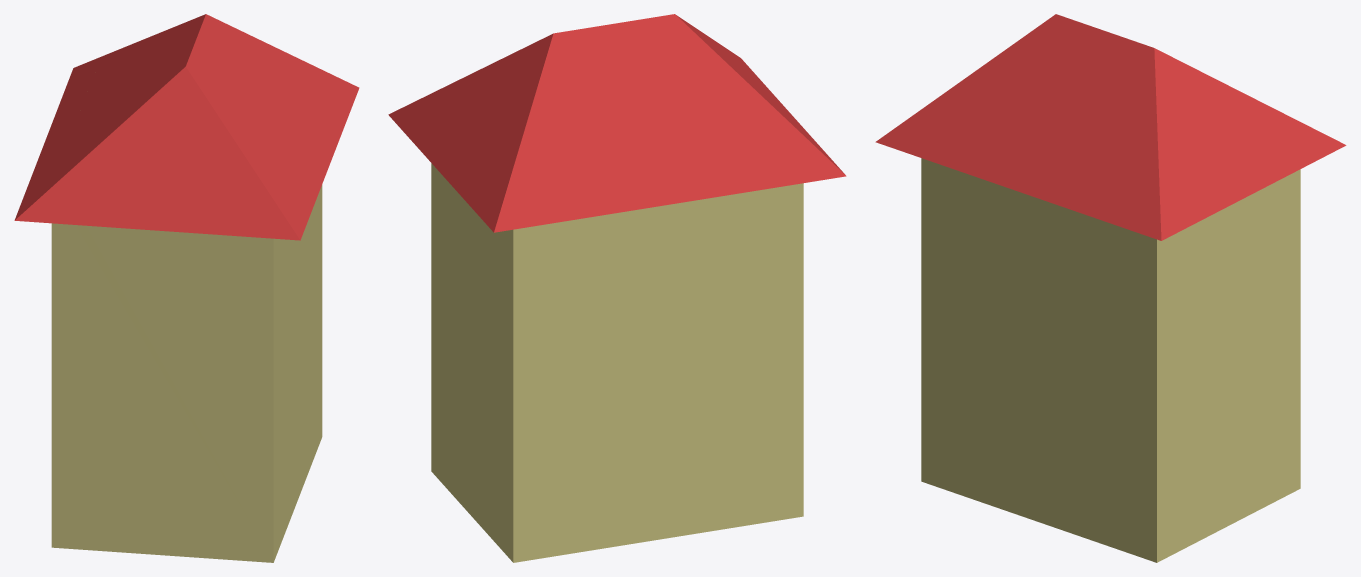
3 views of the same model, side by side, from view 1: azimuth 30°, elevation 25°; view 2: azimuth 150°, elevation 25°; view 3: azimuth 270°, elevation 25° (orthographic). The views are drawn at different scales.
Parts seen in each view (by area): view 1: group_5, group_3, group_4; view 2: group_5, group_3, group_4; view 3: group_5, group_3, group_4.
Boxes of the visible parts, x1,y1,x2,y2 form: group_5: (51,185,322,562); group_3: (15,14,356,240); group_4: (14,57,359,240); group_5: (431,163,803,562); group_3: (388,14,845,232); group_4: (494,59,846,232); group_5: (921,158,1300,562); group_3: (876,14,1346,240); group_4: (875,113,1161,240).
Size of the model in its own units: 10.52 by 10.77 by 11.52.
